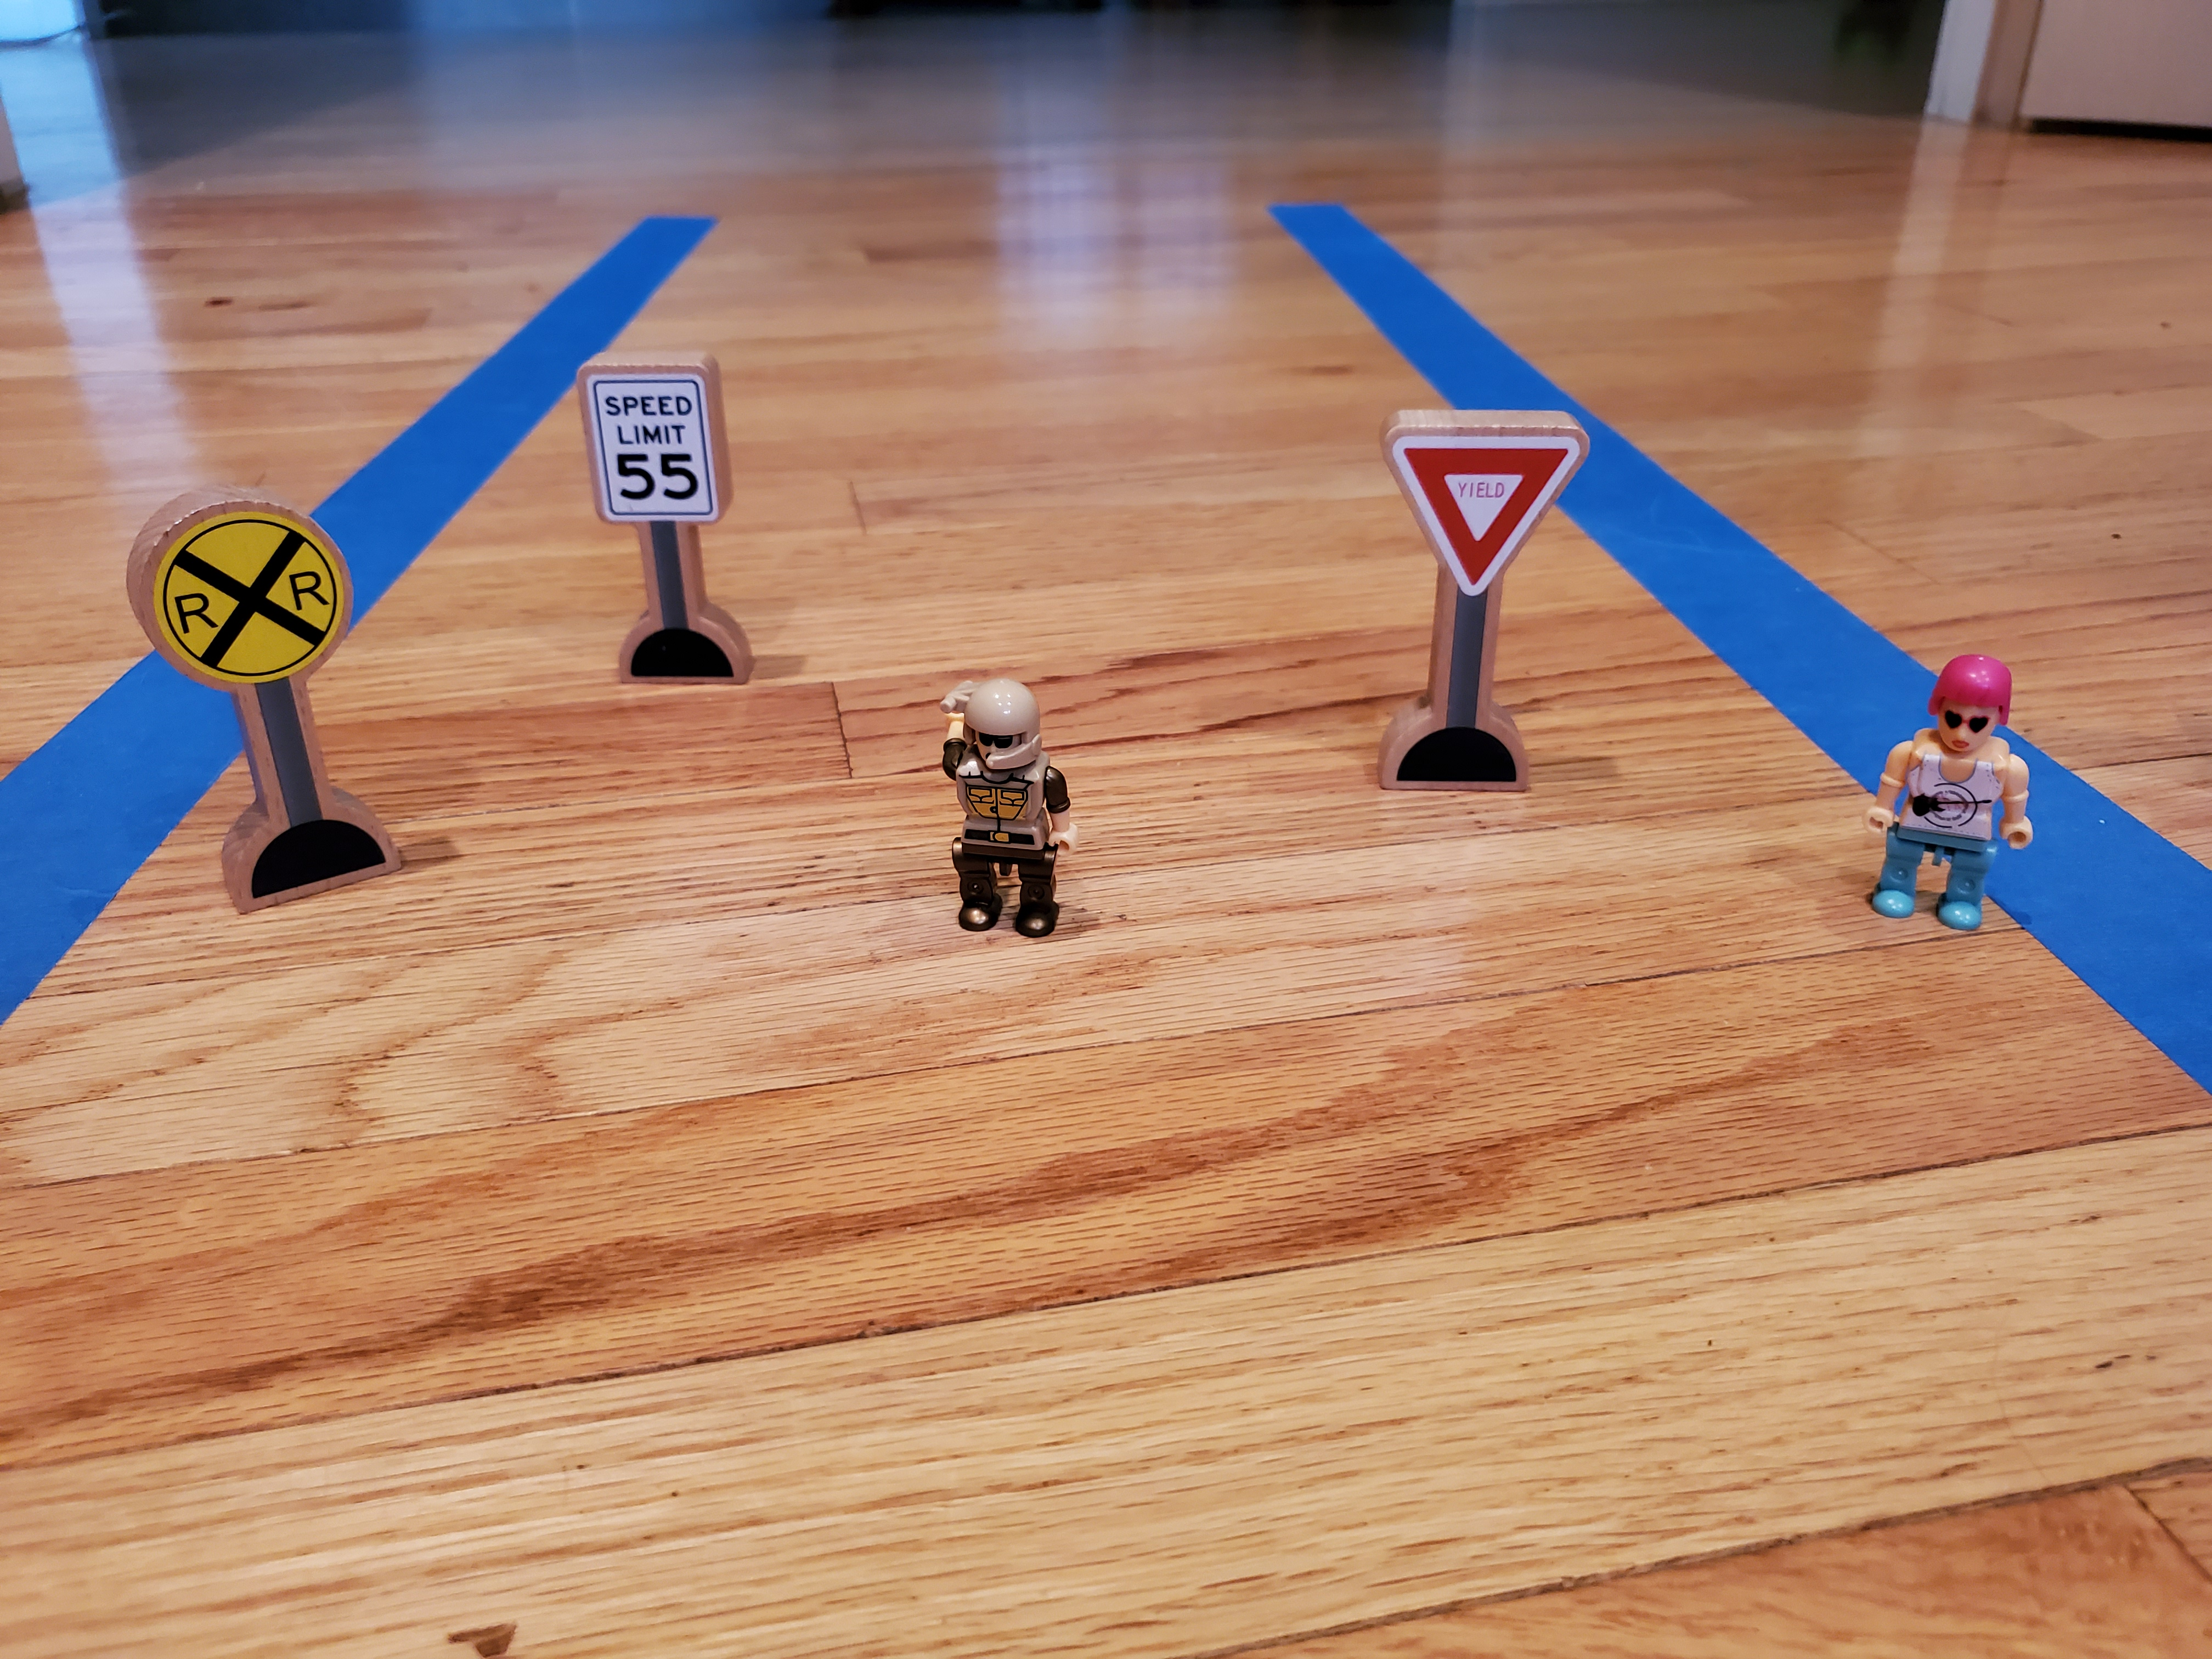Railroad Crossing: (129, 488, 353, 699)
Speed Limit 55: (578, 352, 735, 527)
Yield Sign: (1382, 405, 1589, 601)
person: (1876, 639, 2032, 946), (931, 668, 1088, 938)
